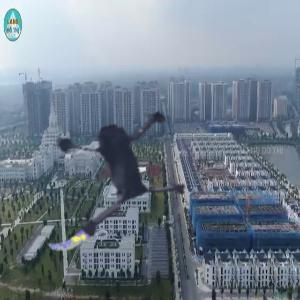drone: (1, 63, 206, 268)
